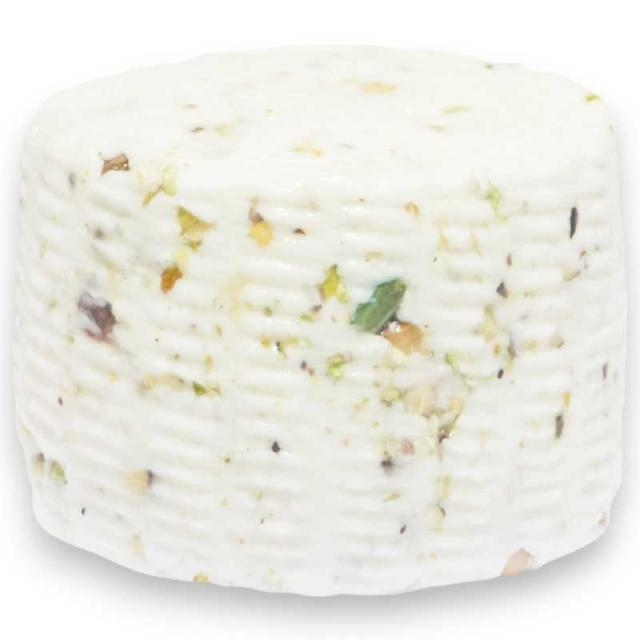Cheese: (0, 47, 640, 628)
